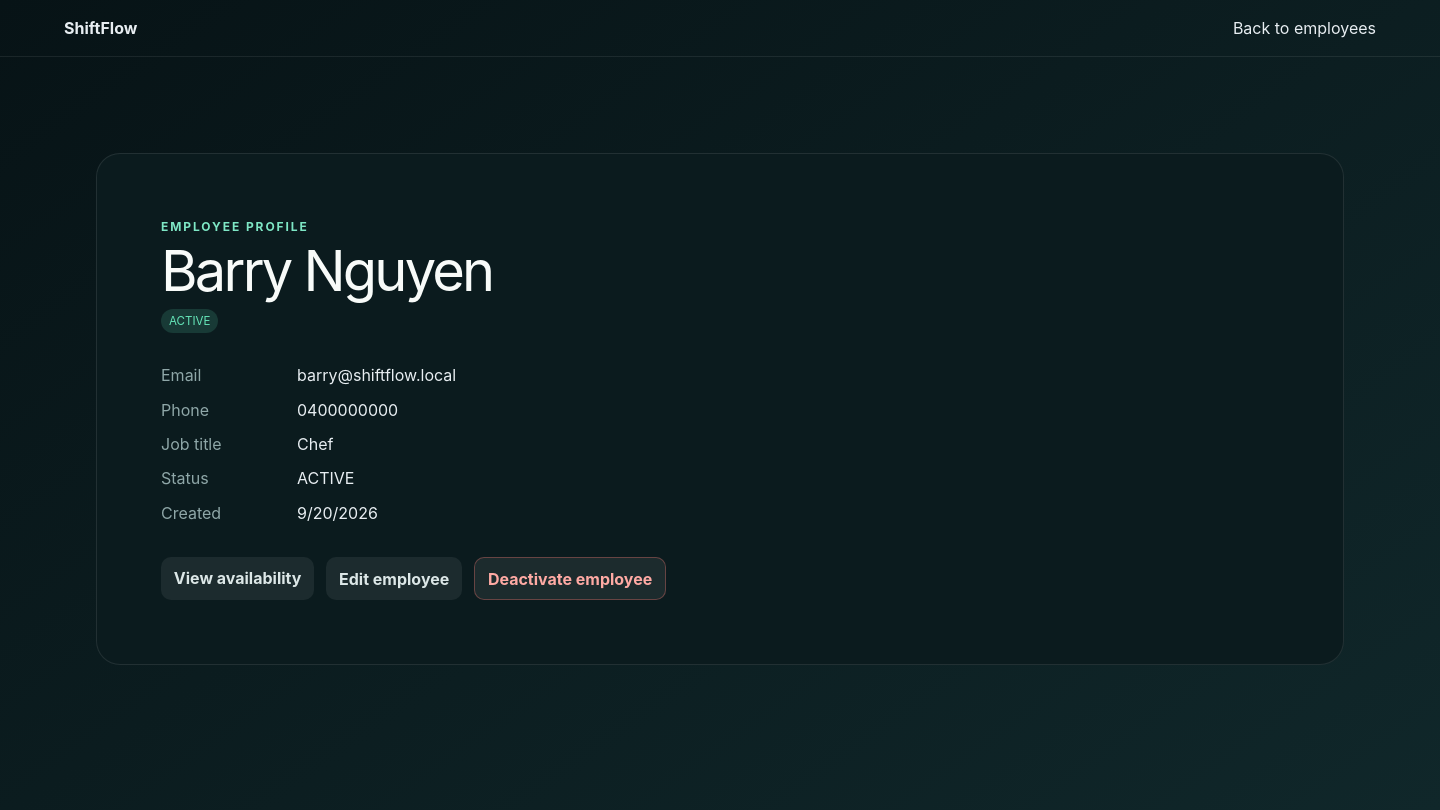
Test: employee UI › deactivates an employee from the detail page and keeps the profile visible
This screenshot has width=1440, height=810.
Check: the heading "Barry Nguyen" is shown, box left=161, top=237, right=492, bottom=305
Click the button "Deactivate employee": [570, 578] box left=474, top=557, right=666, bottom=600
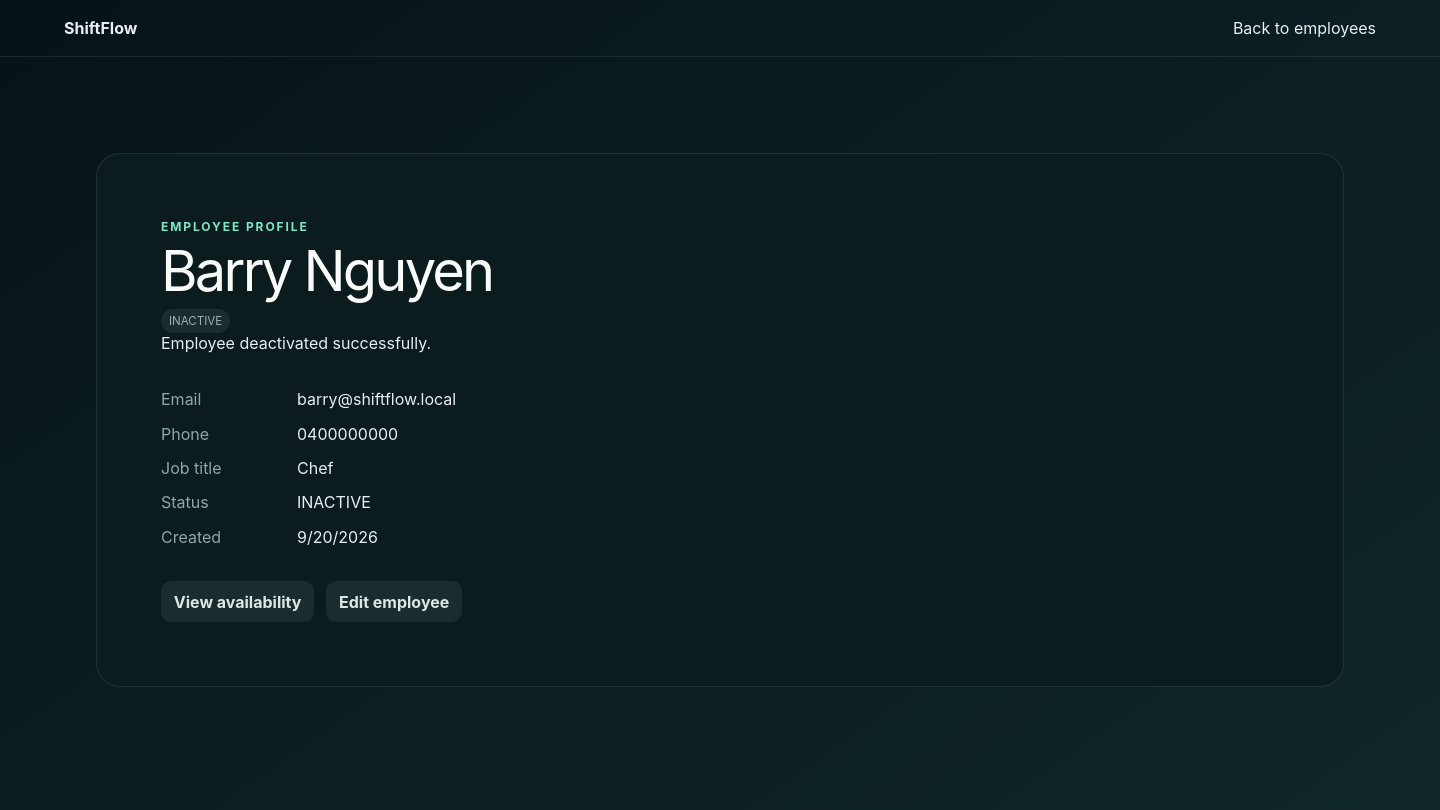
Check: the heading "Barry Nguyen" is shown, box left=161, top=237, right=492, bottom=305
Check: the text "Employee deactivated successfully." is shown, box left=161, top=333, right=431, bottom=353
Check: the text "INACTIVE" below "Nguyen" is shown, box left=169, top=314, right=222, bottom=328
